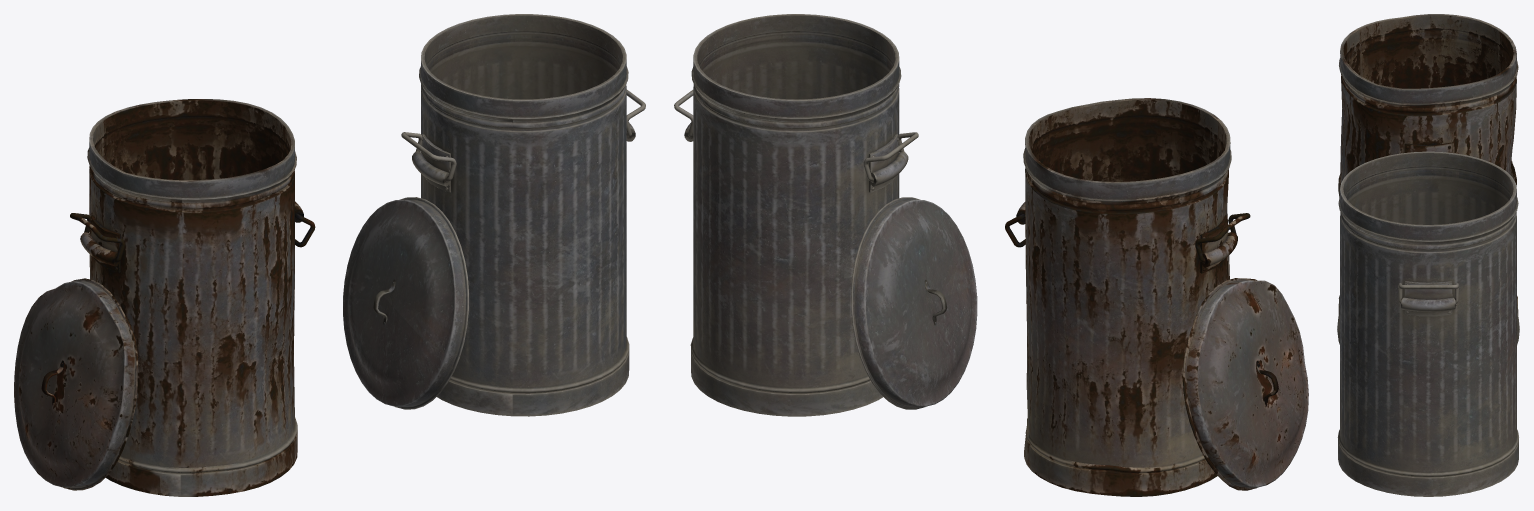
File: trash_can.glb
3 renders of one model, left to right at view 1: azimuth 30°, elevation 25°; view 2: azimuth 150°, elevation 25°; view 3: azimuth 270°, elevation 25°, orthographic. The views are drawn at different scales.
Parts seen in each view (by area): view 1: metal_trash_can, metal_trash_can_rust, metal_trash_can_lid, metal_trash_can_rust_lid; view 2: metal_trash_can, metal_trash_can_rust, metal_trash_can_lid, metal_trash_can_rust_lid; view 3: metal_trash_can, metal_trash_can_rust, metal_trash_can_handle_right.
Part boxes in pixels (x1,y1,x2,y2): metal_trash_can: (412, 14, 635, 416); metal_trash_can_rust: (80, 99, 303, 496); metal_trash_can_lid: (343, 197, 469, 409); metal_trash_can_rust_lid: (14, 278, 137, 490); metal_trash_can: (684, 14, 908, 416); metal_trash_can_rust: (1016, 98, 1237, 496); metal_trash_can_lid: (851, 197, 977, 409); metal_trash_can_rust_lid: (1182, 278, 1308, 490); metal_trash_can: (1337, 151, 1518, 496); metal_trash_can_rust: (1338, 14, 1518, 316); metal_trash_can_handle_right: (1398, 283, 1458, 303).
Size of the model in its own units: 1.41 by 0.72 by 0.442.
Materials: 3 (3 with a texture image).
